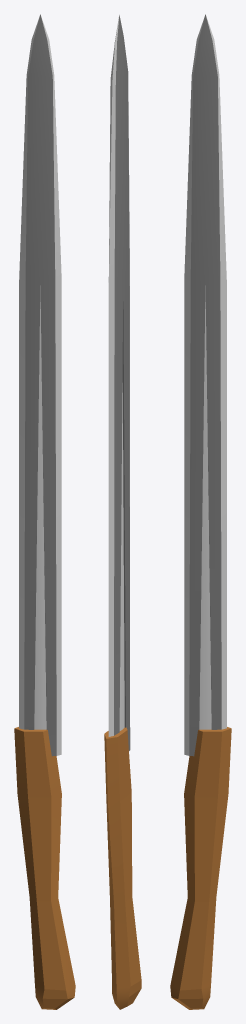
Rendered from Axe35.glb.
3 views of the same model, side by side, from view 1: azimuth 90°, elevation 25°; view 2: azimuth 150°, elevation 25°; view 3: azimuth 270°, elevation 25° (orthographic).
Visible parts, largest first — view 1: weapon_generator; view 2: weapon_generator; view 3: weapon_generator.
Boxes of the visible parts, x1,y1,x2,y2 form: weapon_generator: [14, 14, 75, 1009]; weapon_generator: [104, 15, 141, 1009]; weapon_generator: [170, 14, 231, 1009].
Size of the model in its own units: 0.0282 by 1.43 by 0.0802.
